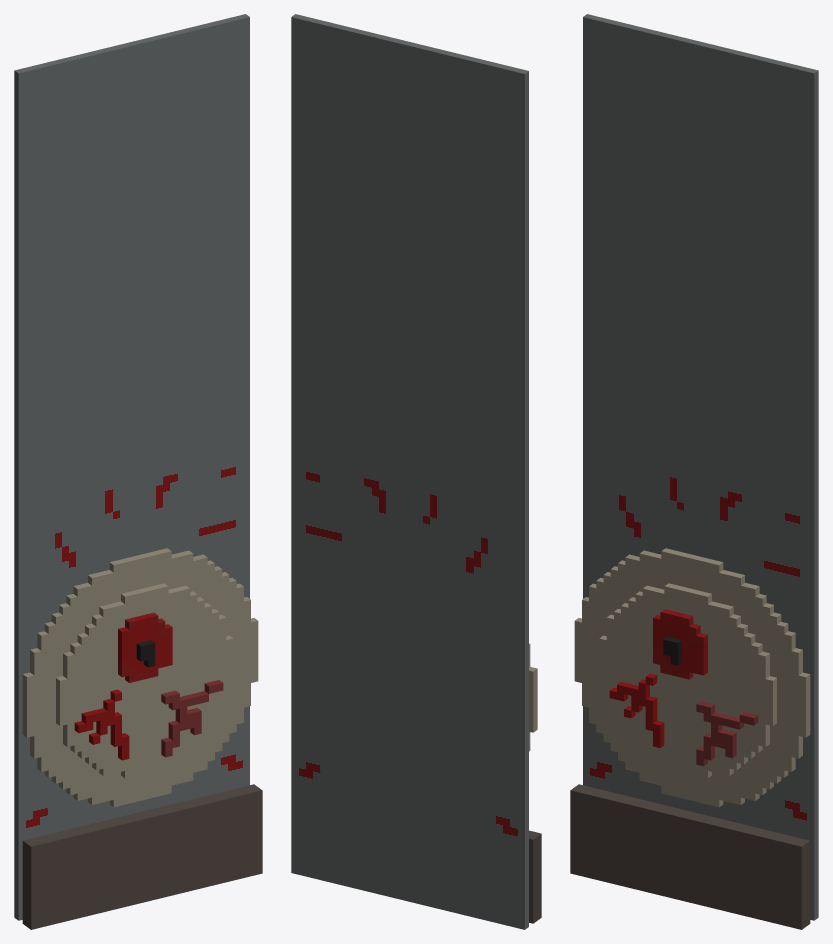
File: scene_bird_on_a_plate.glb
3 views of the same model, side by side, from view 1: azimuth 30°, elevation 25°; view 2: azimuth 150°, elevation 25°; view 3: azimuth 330°, elevation 25° (orthographic).
Visible parts, largest first — view 1: scene_bird_on_plate_6, scene_bird_on_plate_5; view 2: scene_bird_on_plate_6, scene_bird_on_plate_5; view 3: scene_bird_on_plate_6, scene_bird_on_plate_5.
Part boxes in pixels (x1,y1,x2,y2): scene_bird_on_plate_6: [14, 14, 249, 920]; scene_bird_on_plate_5: [22, 548, 262, 929]; scene_bird_on_plate_6: [291, 14, 528, 929]; scene_bird_on_plate_5: [529, 643, 541, 923]; scene_bird_on_plate_6: [583, 14, 818, 920]; scene_bird_on_plate_5: [570, 548, 810, 929].
Size of the model in its own units: 3.2 by 11.2 by 0.6.
1 material, 1 textured.
